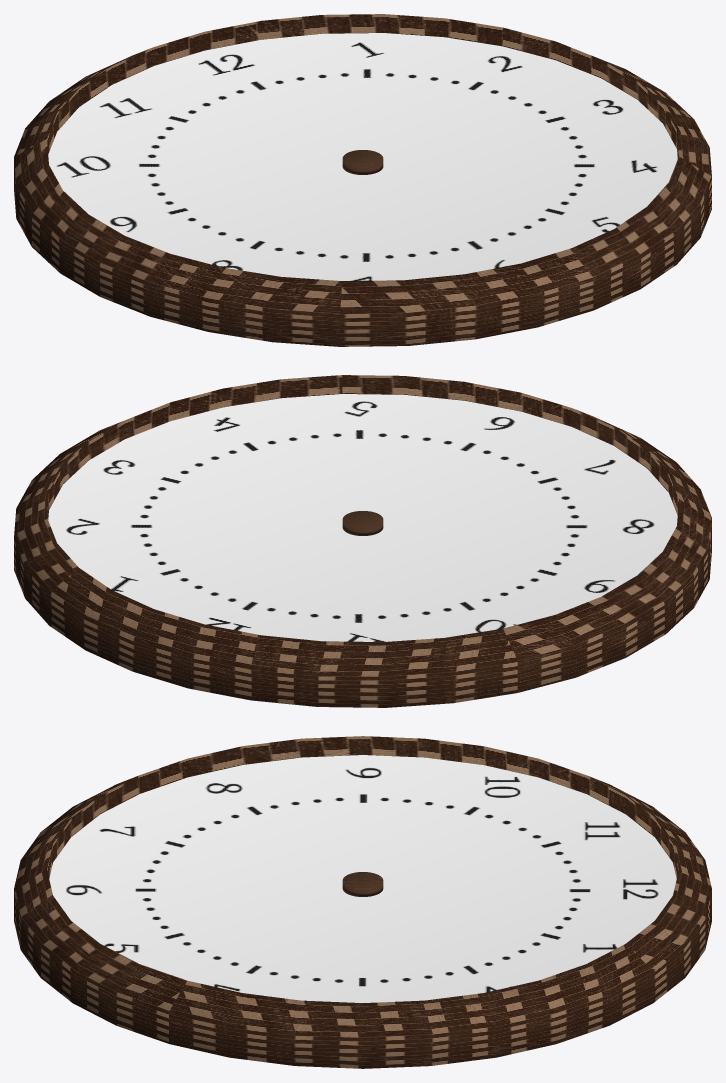
Rendered from wickerclock.gltf.
3 views of the same model, one above another, from view 1: azimuth 30°, elevation 25°; view 2: azimuth 150°, elevation 25°; view 3: azimuth 270°, elevation 25° (orthographic).
Parts seen in each view (by area): view 1: Cylinder, Cylinder.001; view 2: Cylinder, Cylinder.001; view 3: Cylinder, Cylinder.001.
Boxes of the visible parts, x1,y1,x2,y2 form: Cylinder: (14, 14, 711, 346); Cylinder.001: (342, 150, 383, 174); Cylinder: (14, 375, 711, 707); Cylinder.001: (342, 511, 383, 535); Cylinder: (14, 736, 711, 1068); Cylinder.001: (342, 872, 383, 896).
Bounding box in the file's own units: 0.0314 × 0.00257 × 0.0314.
2 materials, 2 textured.
